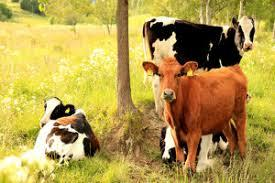cow: (146, 57, 249, 168), (143, 14, 255, 75), (37, 96, 102, 163), (159, 123, 237, 165)
